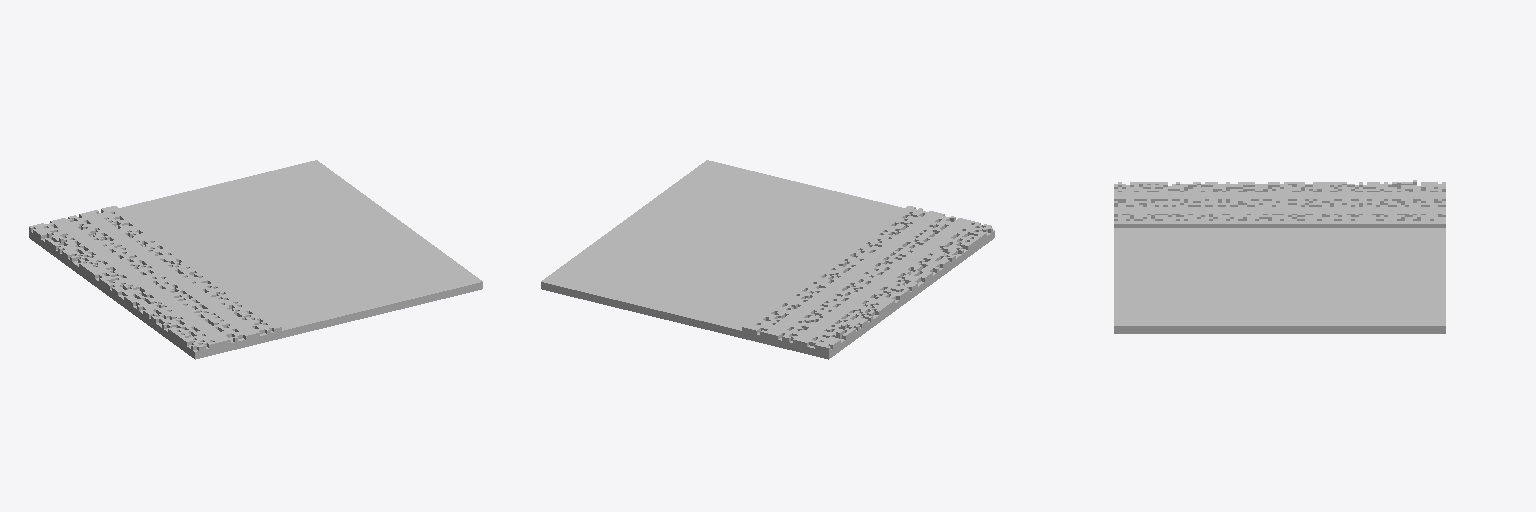
File: pathway 1.obj
3 views of the same model, side by side, from view 1: azimuth 30°, elevation 25°; view 2: azimuth 150°, elevation 25°; view 3: azimuth 270°, elevation 25° (orthographic).
Parts seen in each view (by area): view 1: object 1; view 2: object 1; view 3: object 1.
Part boxes in pixels (left/top/right/bottom): object 1: left=29, top=160, right=482, bottom=359; object 1: left=541, top=160, right=994, bottom=359; object 1: left=1114, top=180, right=1445, bottom=333.
Bounding box in the file's own units: 8 × 0.4 × 8.